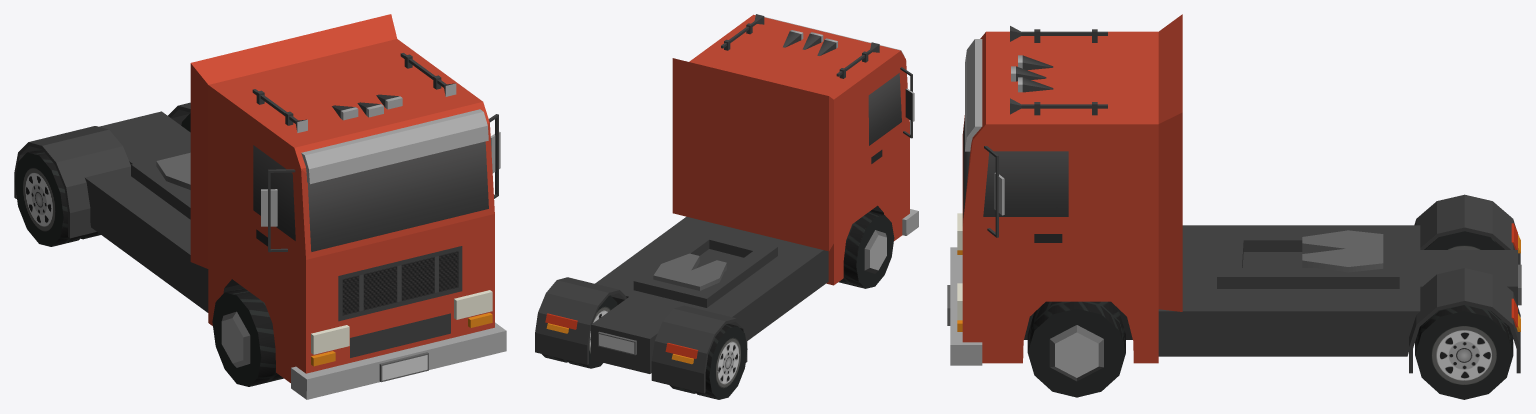
Rendered from TruckEuropeanA.fbx.
The picture shows the model from 3 angles, left to right: view 1: azimuth 30°, elevation 25°; view 2: azimuth 150°, elevation 25°; view 3: azimuth 270°, elevation 25°; orthographic projection. The views are drawn at different scales.
Visible parts, largest first — view 1: TruckEuropeanA, TireFR, TireBR; view 2: TruckEuropeanA, TireFR, TireBR, TireBL; view 3: TruckEuropeanA, TireFL, TireBL, TireBR.
Part boxes in pixels (left/top/right/bottom): TruckEuropeanA: left=14, top=14, right=506, bottom=399; TireFR: left=212, top=287, right=283, bottom=386; TireBR: left=14, top=149, right=100, bottom=246; TruckEuropeanA: left=535, top=14, right=918, bottom=393; TireFR: left=838, top=211, right=894, bottom=288; TireBR: left=669, top=323, right=747, bottom=399; TireBL: left=542, top=295, right=617, bottom=368; TruckEuropeanA: left=947, top=14, right=1521, bottom=373; TireFL: left=1027, top=301, right=1125, bottom=397; TireBL: left=1415, top=304, right=1513, bottom=399; TireBR: left=1424, top=231, right=1504, bottom=249.
Size of the model in its own units: 241 by 270 by 498.
